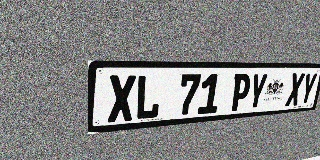1: (197, 74, 222, 114)
7: (176, 74, 201, 116)
L: (135, 74, 162, 120)
P: (229, 73, 252, 111)
X: (108, 75, 136, 123), (285, 73, 305, 106)
Y: (246, 73, 268, 110), (298, 73, 318, 105)
